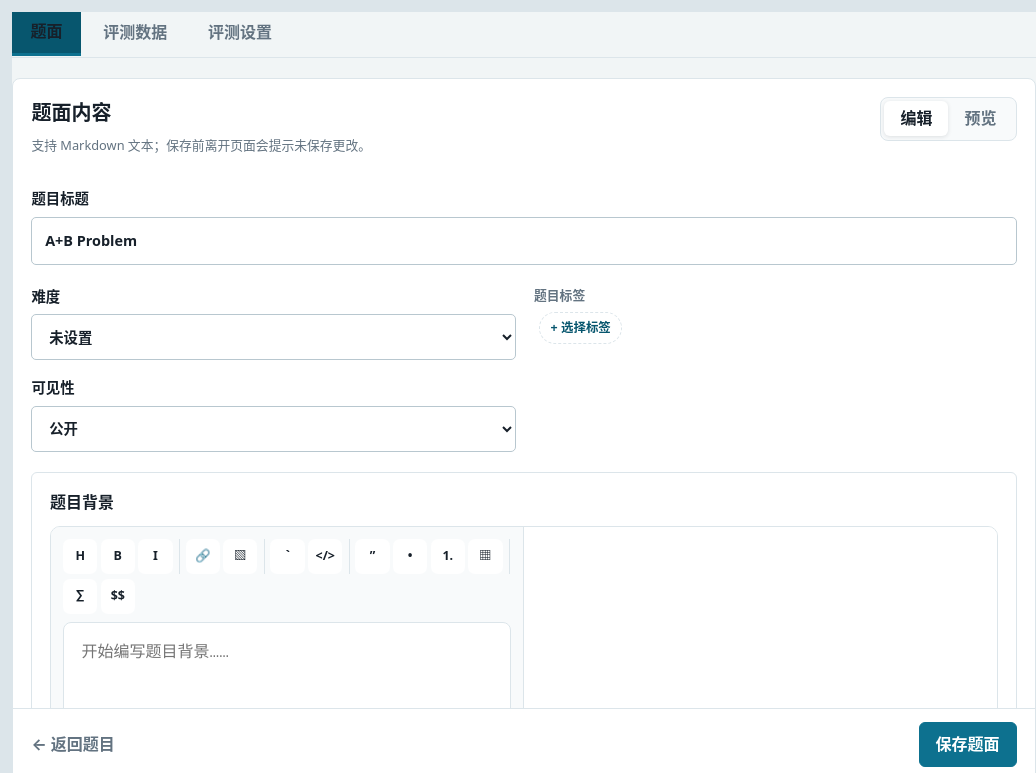
Test: Web UI polish › saves the statement without editor refresh or problem publication controls
Click the button "保存题面": (968, 745) [919,722,1017,767]
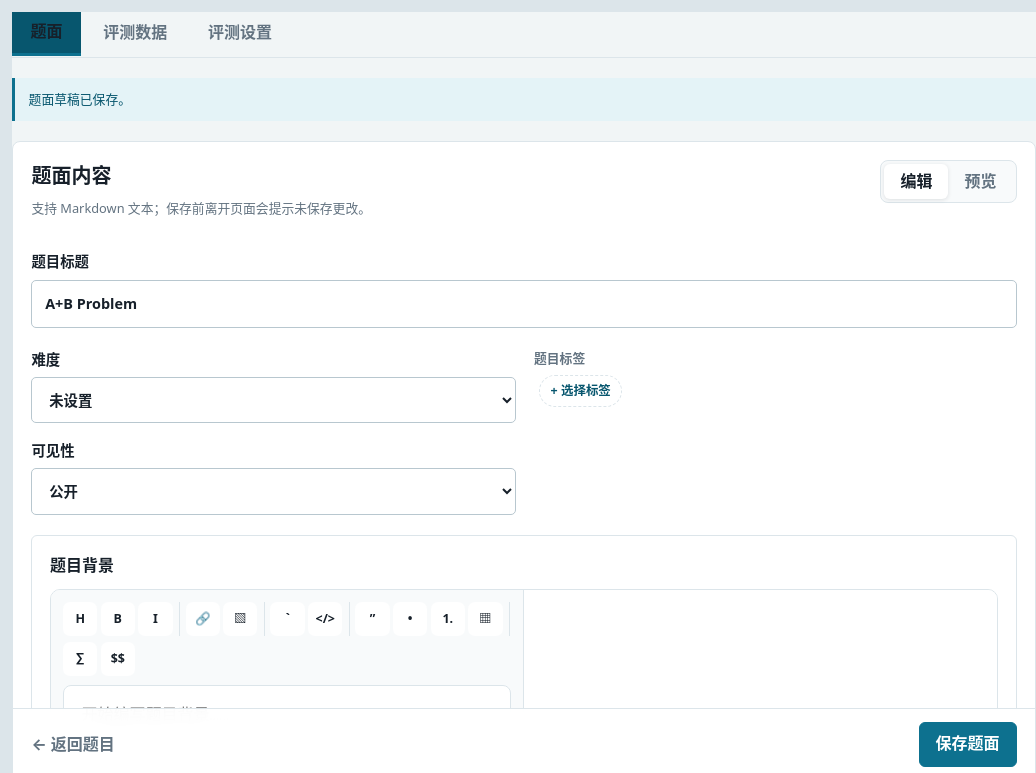
Check: the message shows "题面草稿已保存", box [29,90,131,108]
Click the button "评测数据": (135, 34) [85,12,186,57]
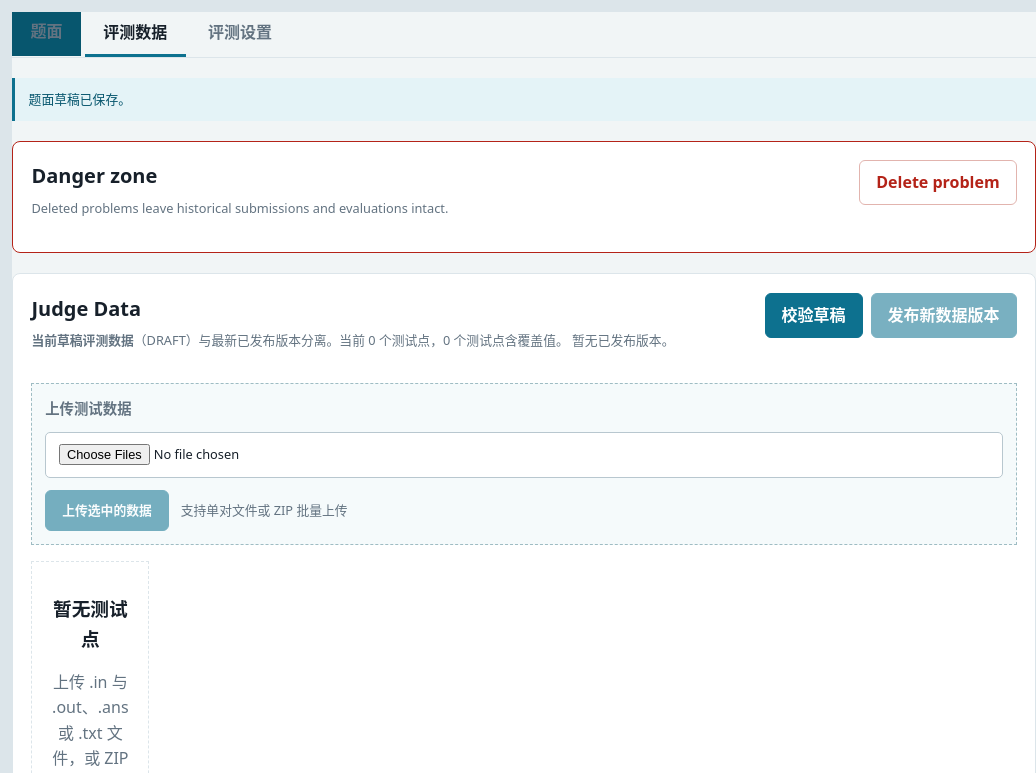
Check: the button "发布新数据版本" is shown, box [871,293,1017,338]
